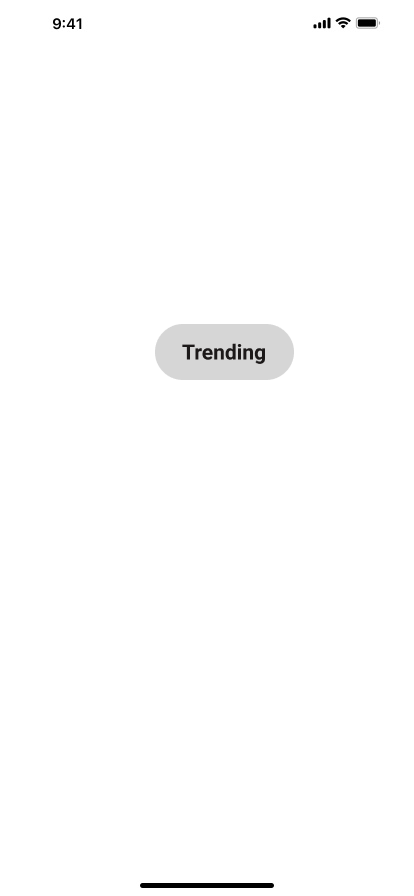Buttons: (155, 324, 302, 380)
Home Indicator: (0, 862, 414, 896)
Status Bar: (0, 0, 414, 44)
